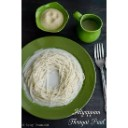idiyappam: (27, 52, 75, 102)
